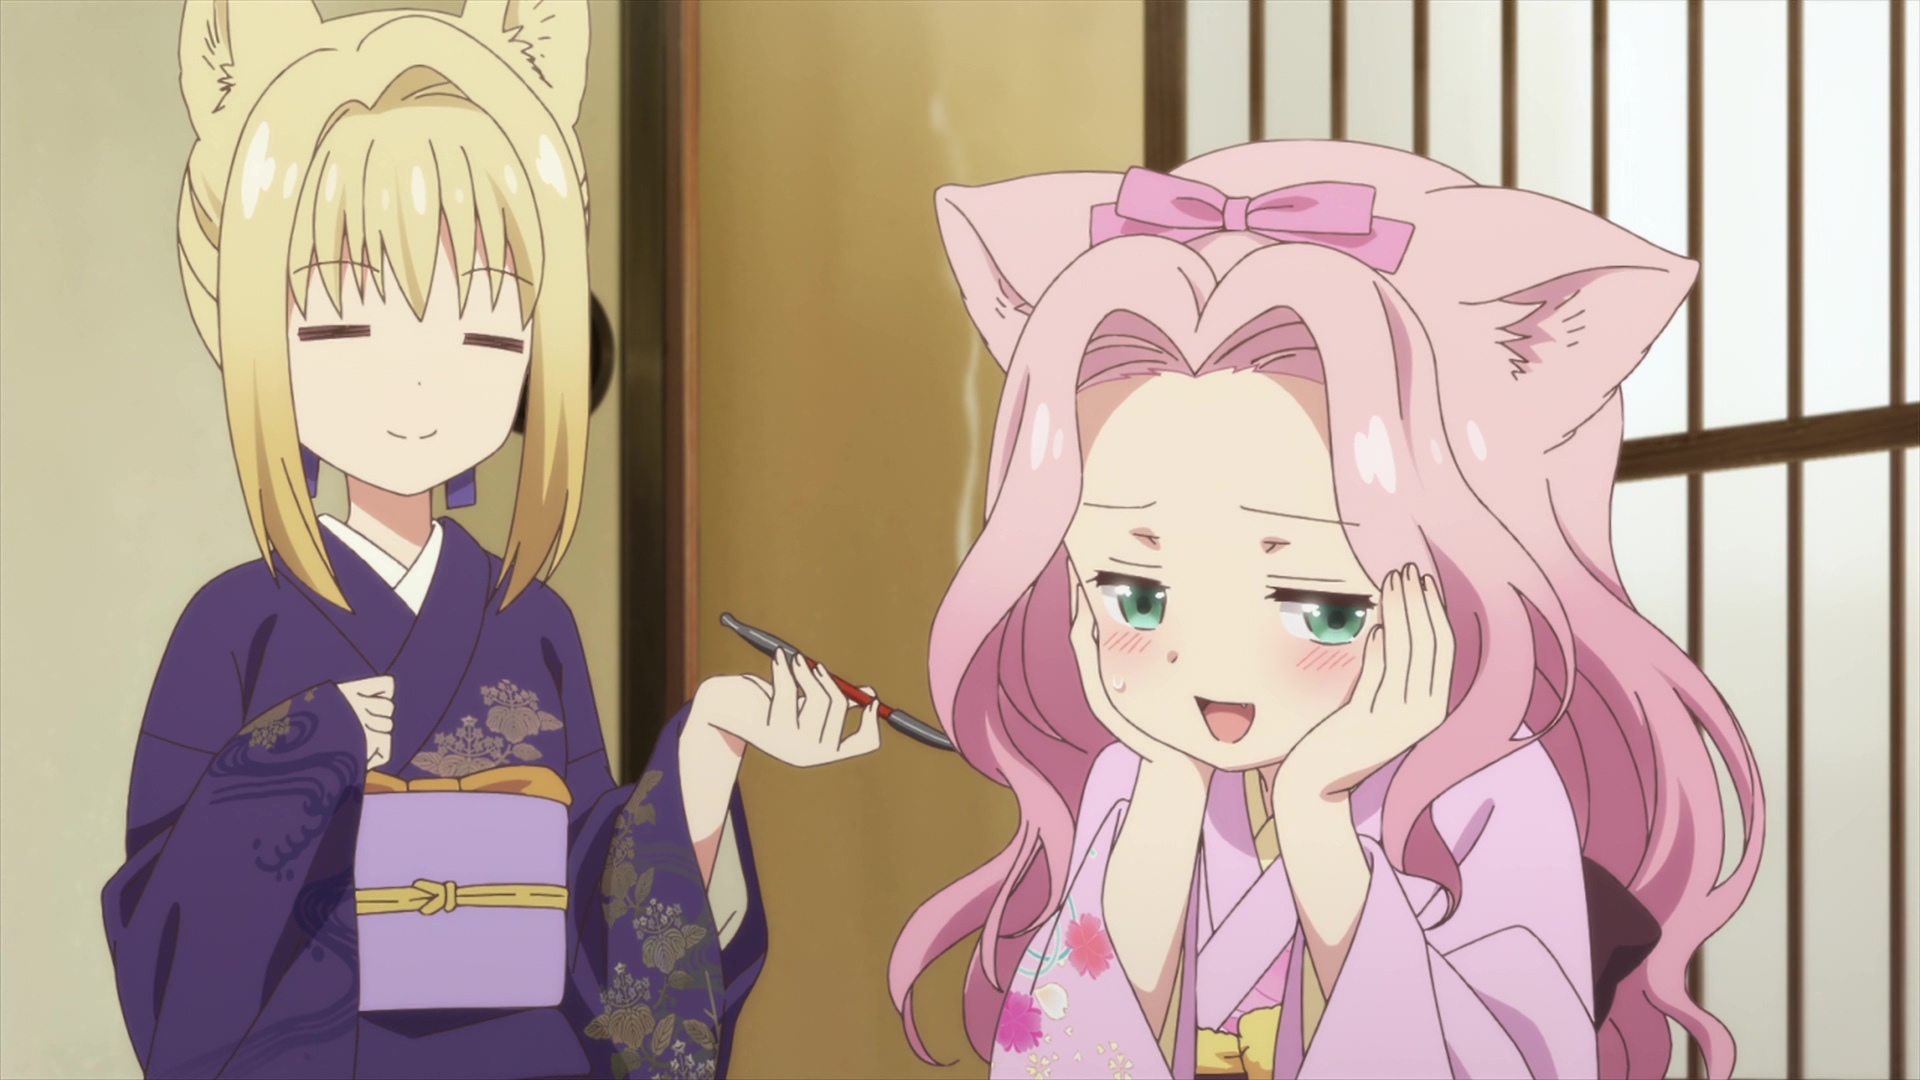桐: (98, 1, 955, 1080)
莲: (887, 135, 1764, 1080)
